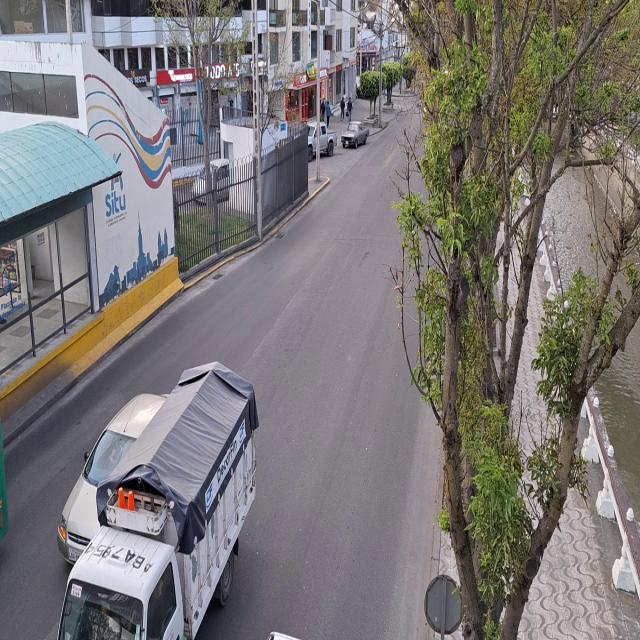CMT: (308, 122, 338, 154), (340, 121, 370, 148)
TRUCK: (57, 373, 260, 639)
